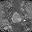people: (11, 11, 22, 23)
